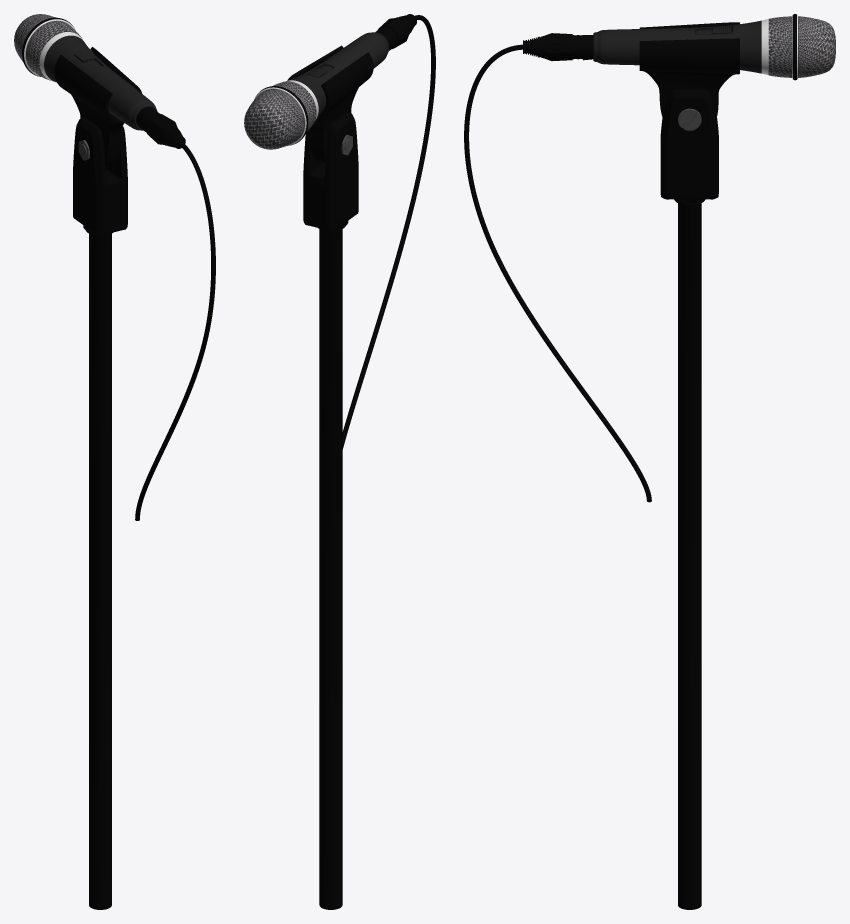
File: microphone.glb
3 renders of one model, left to right at view 1: azimuth 30°, elevation 25°; view 2: azimuth 150°, elevation 25°; view 3: azimuth 270°, elevation 25°, orthographic. The views are drawn at different scales.
Parts seen in each view (by area): view 1: Cylinder.007, Cube.001, Cylinder, Cylinder.003, BezierCurve, Cylinder.001, Cylinder.008; view 2: Cylinder.007, Cube.001, Cylinder.001, Cylinder.003, BezierCurve, Cylinder, Cylinder.008; view 3: Cylinder.007, Cube.001, Cylinder.003, Cylinder, Cylinder.001, BezierCurve, Cylinder.008.
Part boxes in pixels (x1=…): Cylinder.007: x1=83, y1=225, x2=113, y2=909; Cube.001: x1=73, y1=117, x2=127, y2=235; Cylinder: x1=39, y1=32, x2=157, y2=130; Cylinder.003: x1=54, y1=47, x2=142, y2=168; BezierCurve: x1=135, y1=140, x2=215, y2=520; Cylinder.001: x1=14, y1=14, x2=82, y2=80; Cylinder.008: x1=136, y1=107, x2=185, y2=148; Cylinder.007: x1=318, y1=221, x2=348, y2=909; Cube.001: x1=303, y1=112, x2=358, y2=230; Cylinder.001: x1=244, y1=81, x2=316, y2=149; Cylinder.003: x1=287, y1=45, x2=373, y2=163; BezierCurve: x1=342, y1=15, x2=435, y2=449; Cylinder: x1=285, y1=32, x2=388, y2=120; Cylinder.008: x1=375, y1=14, x2=416, y2=50; Cylinder.007: x1=674, y1=199, x2=705, y2=909; Cube.001: x1=660, y1=89, x2=718, y2=199; Cylinder.003: x1=639, y1=22, x2=739, y2=119; Cylinder: x1=593, y1=19, x2=768, y2=74; Cylinder.001: x1=768, y1=16, x2=835, y2=77; BezierCurve: x1=464, y1=44, x2=651, y2=502; Cylinder.008: x1=523, y1=33, x2=593, y2=61.
Size of the model in its own units: 34.47 by 509 by 193.
Materials: 10 (2 with a texture image).
